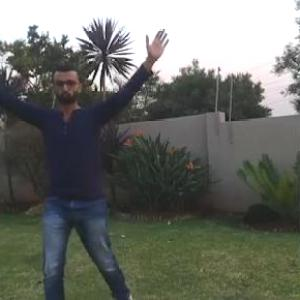takeoff: (1, 36, 181, 299)
